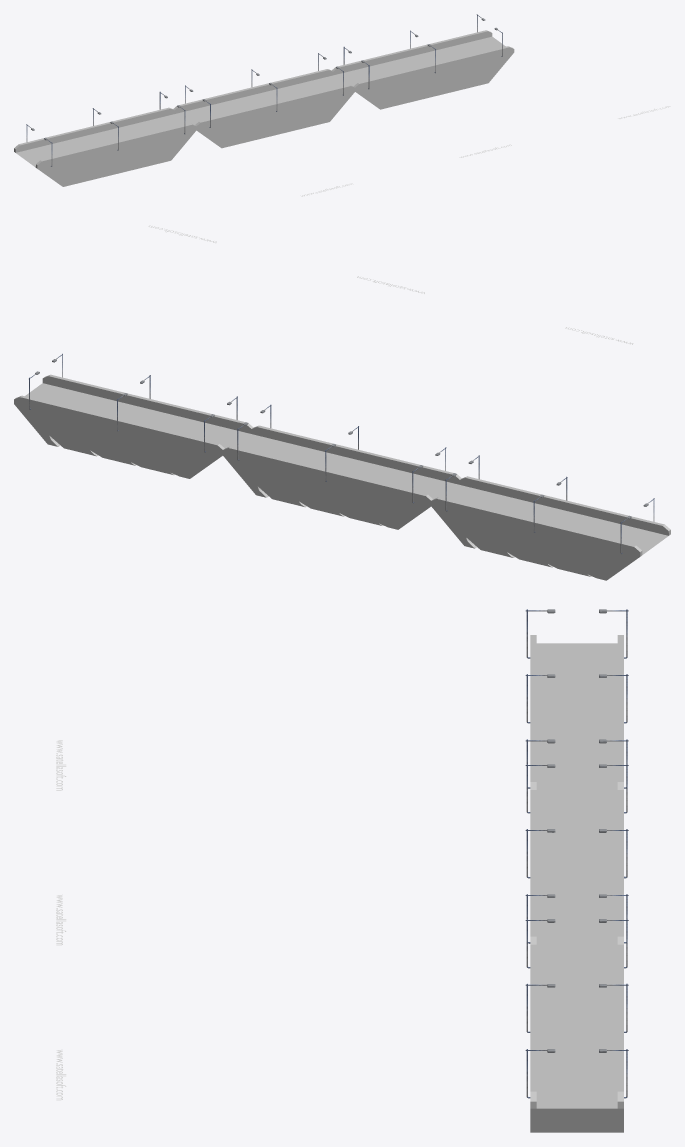
Rendered from custom.fbx.
3 renders of one model, top to bottom at view 1: azimuth 30°, elevation 25°; view 2: azimuth 150°, elevation 25°; view 3: azimuth 270°, elevation 25°, orthographic. The views are drawn at different scales.
Parts seen in each view (by area): view 1: bridge, bridge.002, bridge.001; view 2: bridge, bridge.001, bridge.002; view 3: bridge.002, bridge, bridge.001.
Boxes of the visible parts, bbox=[...] form: bridge: bbox=[14, 107, 196, 186]; bridge.002: bbox=[332, 30, 514, 109]; bridge.001: bbox=[173, 69, 355, 148]; bridge: bbox=[431, 476, 670, 580]; bridge.001: bbox=[223, 425, 461, 529]; bridge.002: bbox=[14, 374, 253, 478]; bridge.002: bbox=[530, 944, 623, 1132]; bridge: bbox=[530, 635, 623, 798]; bridge.001: bbox=[530, 790, 623, 953].
Size of the model in its own units: 8240 by 735 by 3966.
